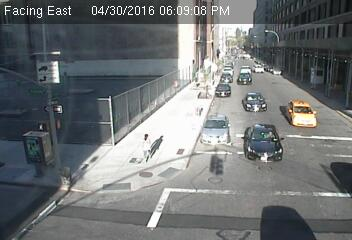neg: (106, 1, 140, 45), (184, 117, 213, 155), (38, 8, 66, 46), (321, 81, 348, 117), (159, 7, 186, 43), (66, 180, 93, 215), (41, 84, 66, 117), (34, 143, 58, 175), (139, 83, 162, 115), (132, 203, 155, 234), (205, 77, 228, 107), (130, 52, 153, 82), (309, 59, 326, 82), (171, 81, 187, 103), (206, 3, 220, 22), (249, 7, 262, 24), (279, 51, 291, 67), (240, 40, 245, 47)
pos: (132, 127, 160, 165)
